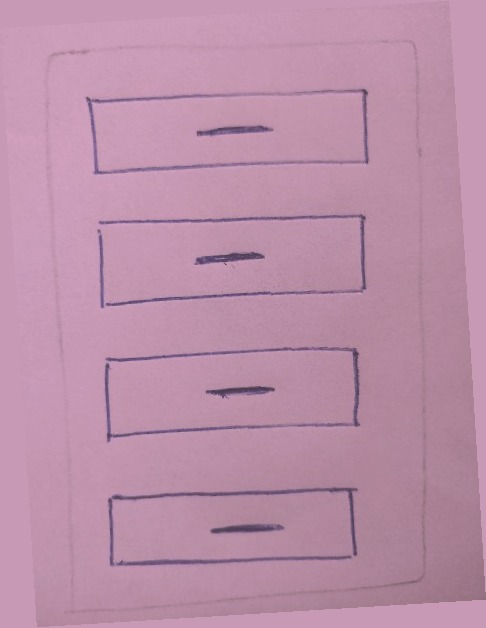button: (79, 69, 382, 195), (88, 198, 377, 320), (94, 331, 371, 456), (96, 470, 367, 588)
